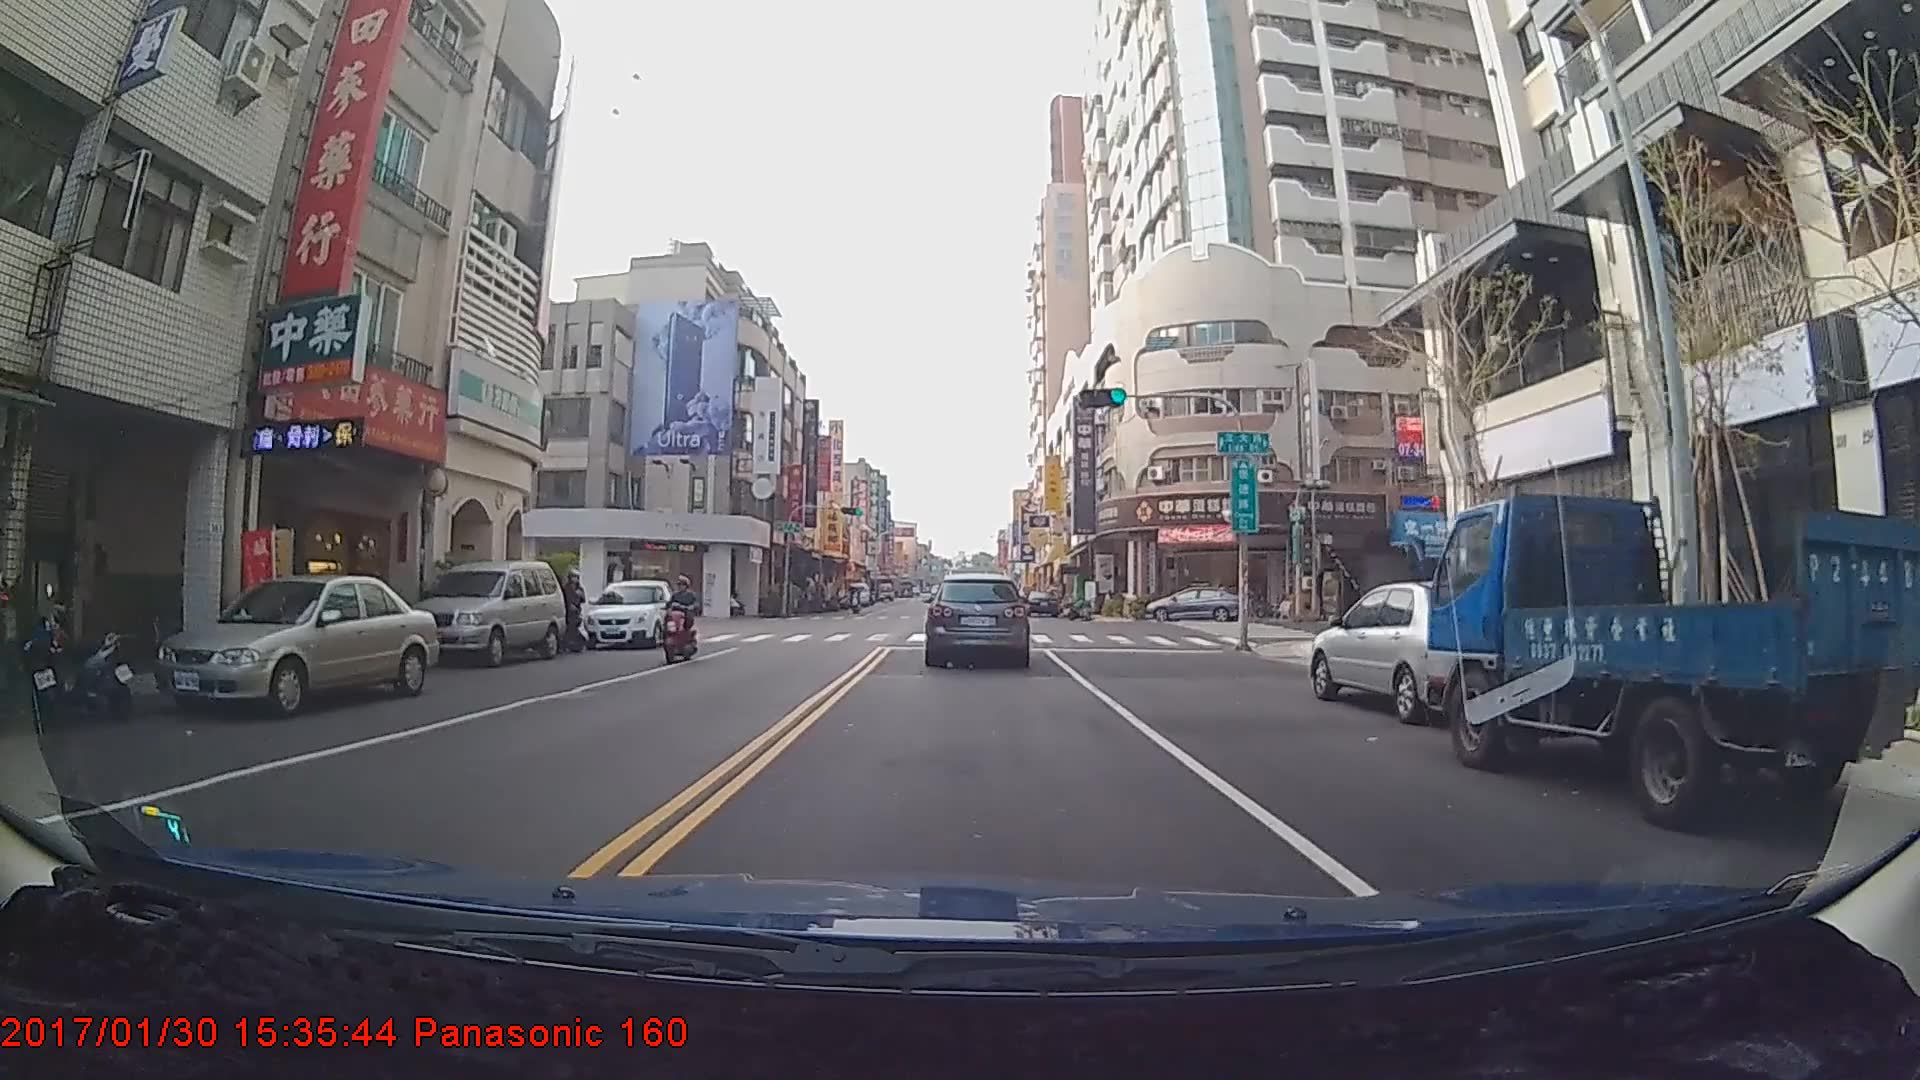rider: (654, 578, 699, 670)
vehicle: (1419, 491, 1920, 831), (152, 574, 430, 722), (1305, 580, 1522, 724), (406, 558, 567, 667), (926, 570, 1029, 667), (582, 577, 677, 650), (1143, 585, 1244, 622), (1022, 588, 1059, 617), (845, 580, 869, 608)
